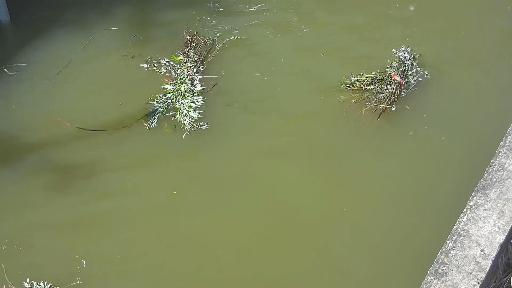twig: (127, 30, 235, 130), (331, 39, 434, 127)
